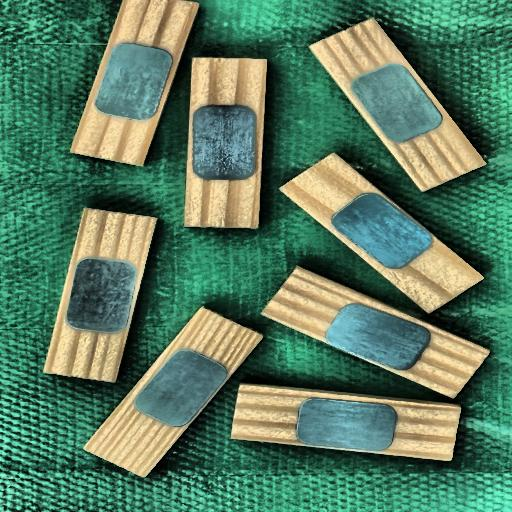objects: (281, 142, 483, 325), (309, 4, 487, 206), (85, 293, 262, 490), (260, 260, 490, 406), (42, 200, 155, 388), (229, 384, 462, 462), (182, 55, 266, 230)
